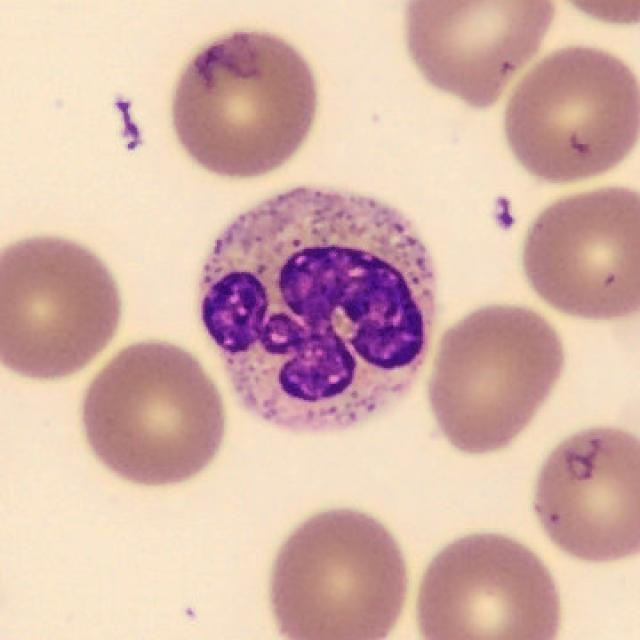Neutrofilo segmentado: (199, 197, 436, 436)
